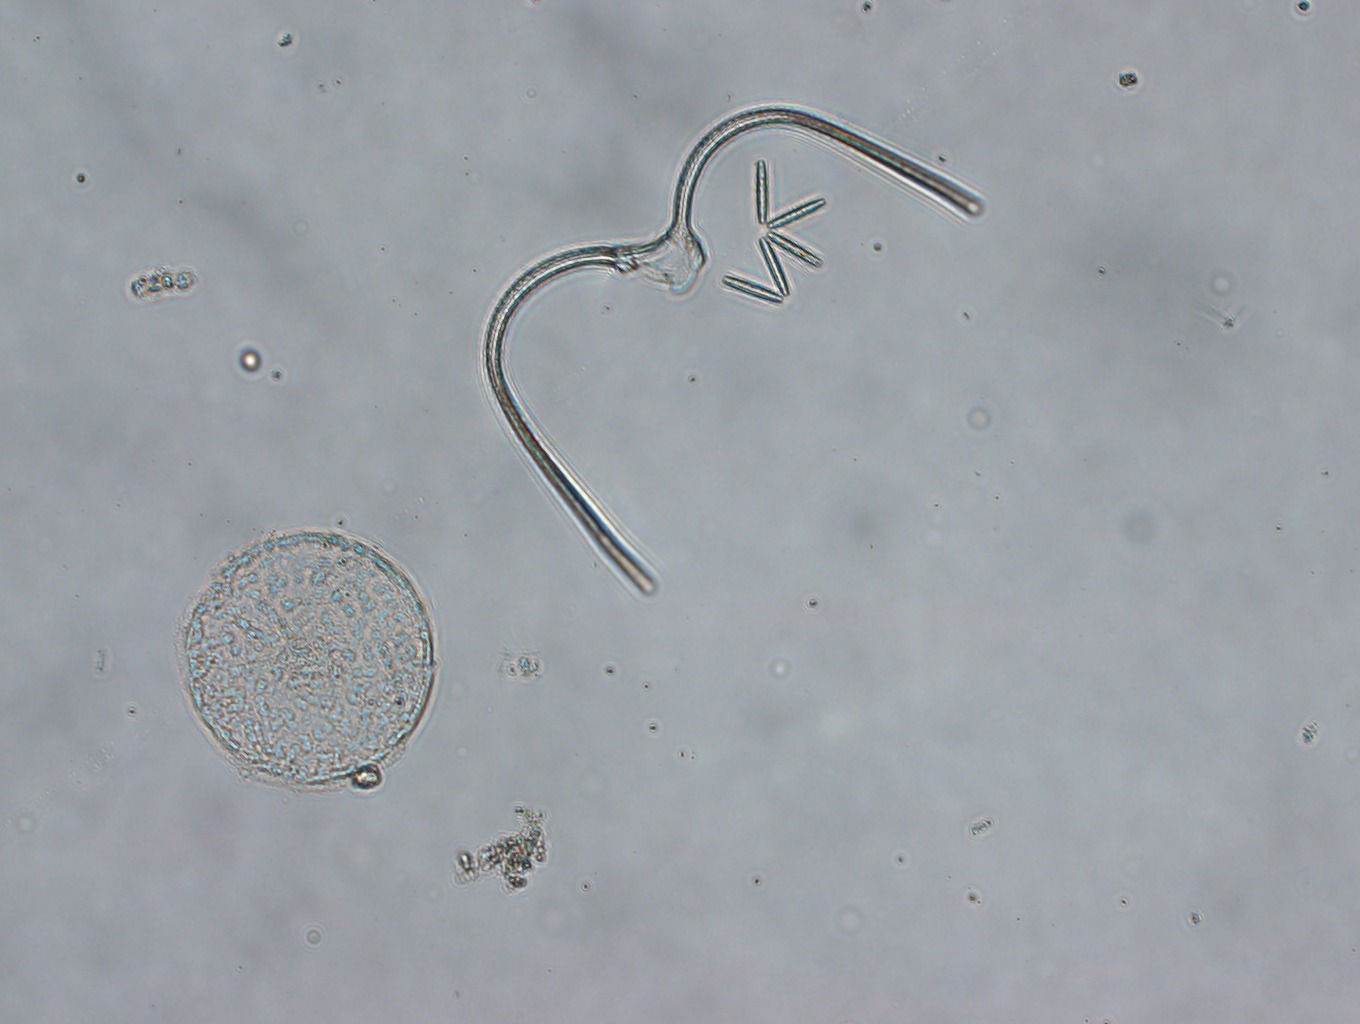ceratium trichoceros: (479, 103, 989, 600)
coscinodiscus: (178, 529, 438, 791)
thalassionema nitzschioides: (721, 157, 826, 305)
